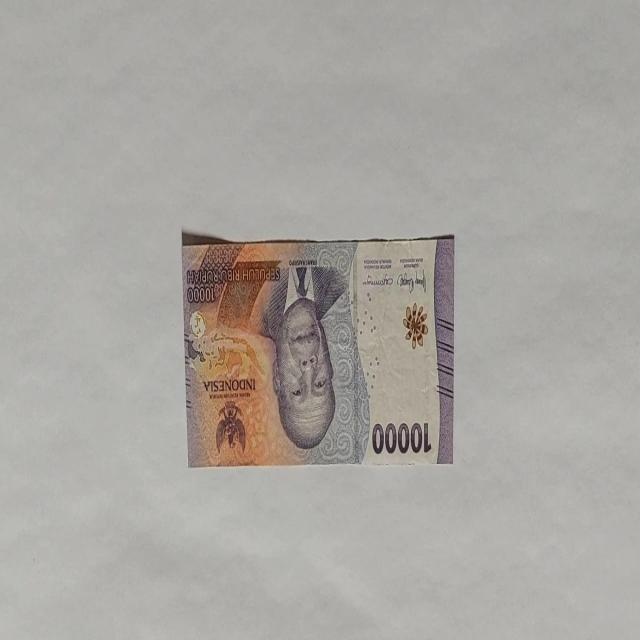Kertas: (182, 232, 454, 468)
